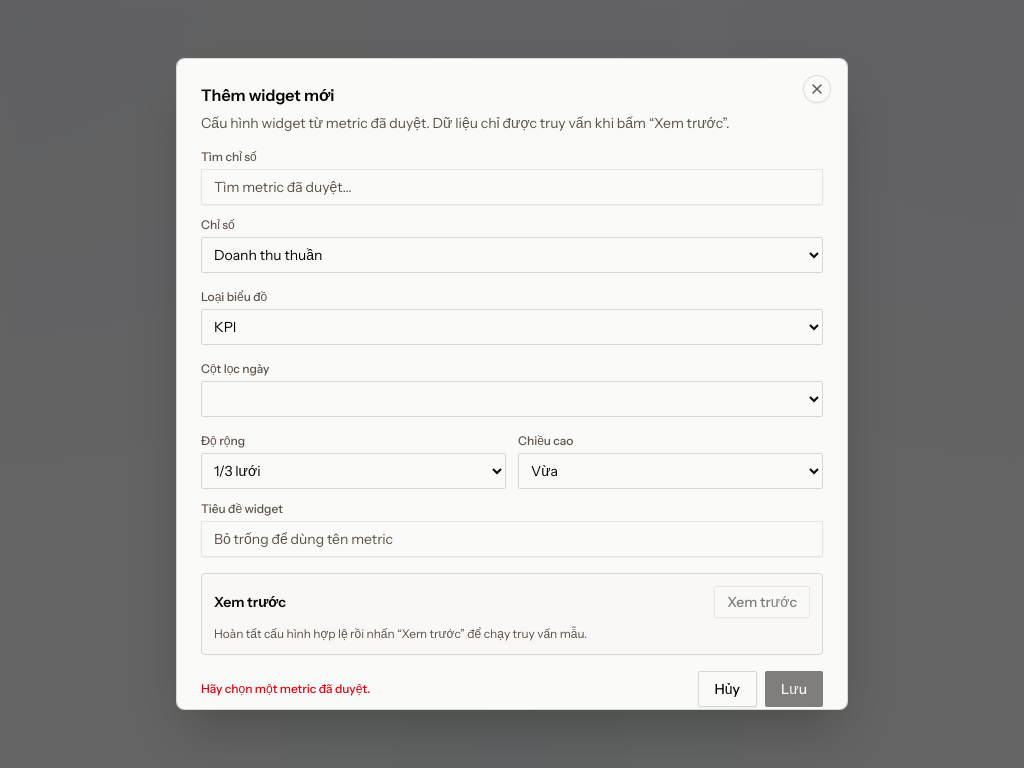
Test case: WidgetConfigModal › adapts dimension options to chart compatibility and resets stale selections
Step 1. Select "Doanh thu thuần" in the dropdown labelled "Chỉ số" → (512, 255), box [201, 237, 823, 273]
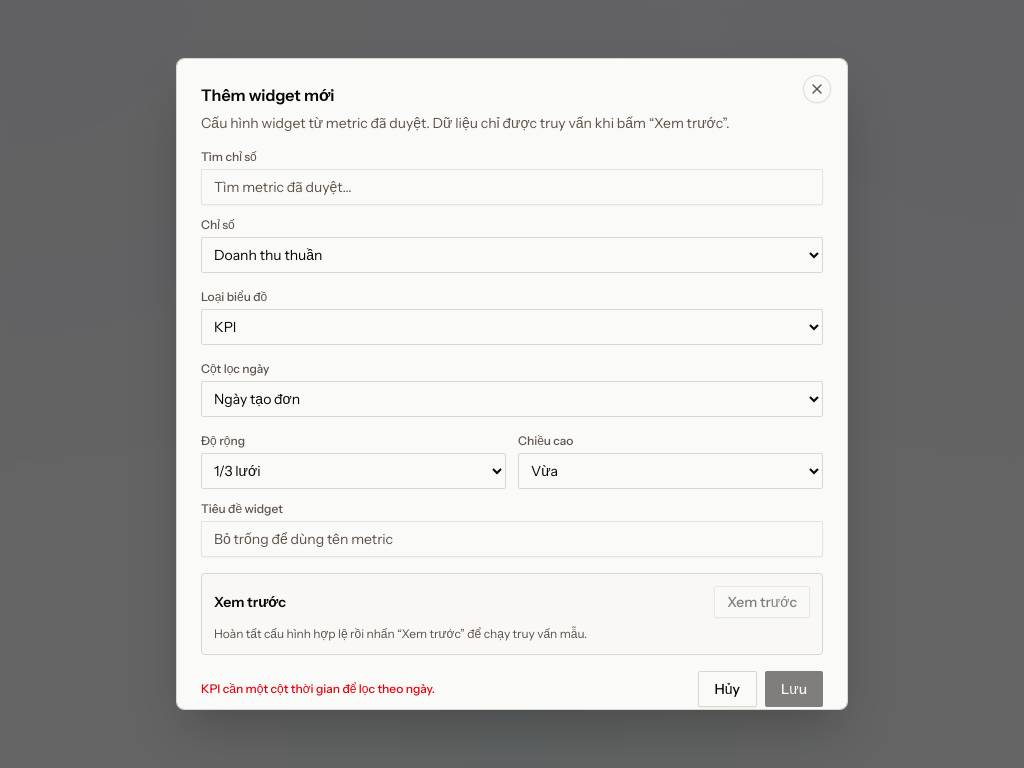
Step 2. Select "Biểu đồ cột" in the dropdown labelled "Loại biểu đồ" → (512, 327), box [201, 309, 823, 345]
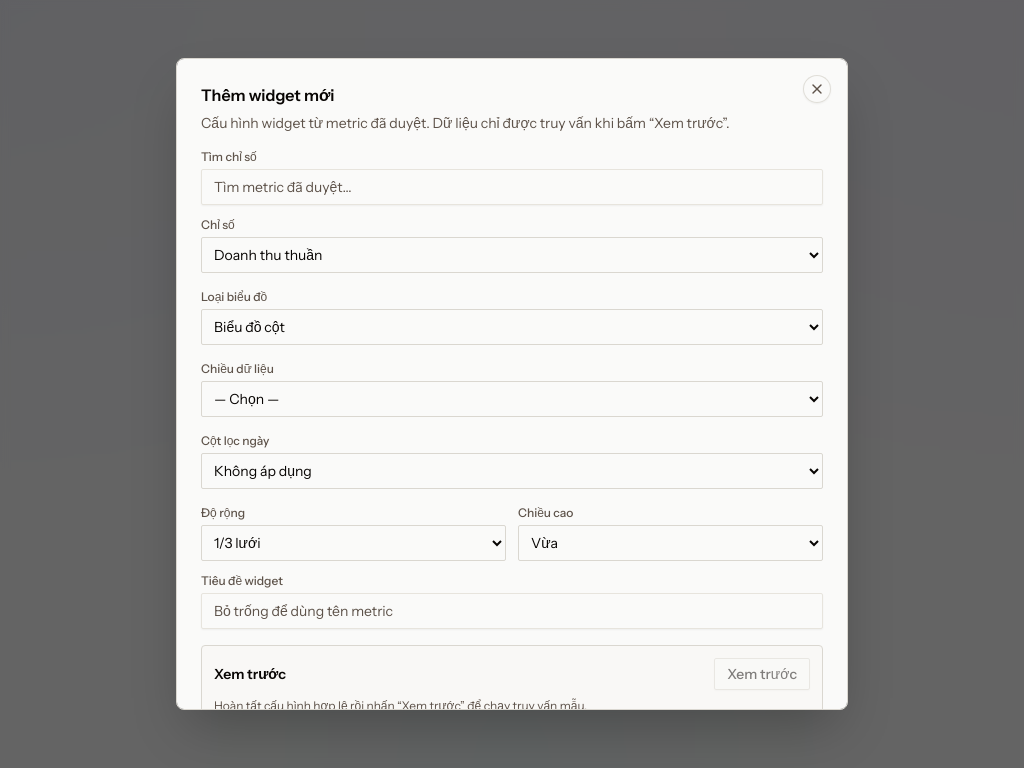
Expected: the option does not show "Ngày tạo đơn"
Step 3. Select "Tên khách hàng" in the dropdown labelled "Chiều dữ liệu" → (512, 399), box [201, 381, 823, 417]
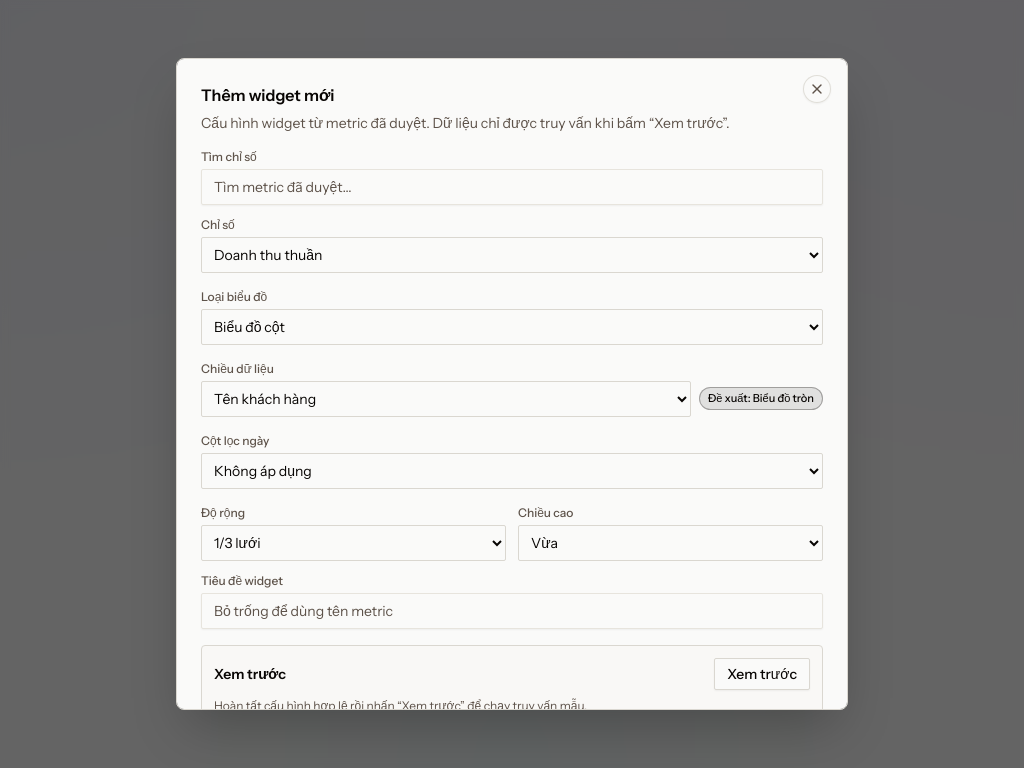
Step 4. Select "Biểu đồ đường" in the dropdown labelled "Loại biểu đồ" → (512, 327), box [201, 309, 823, 345]
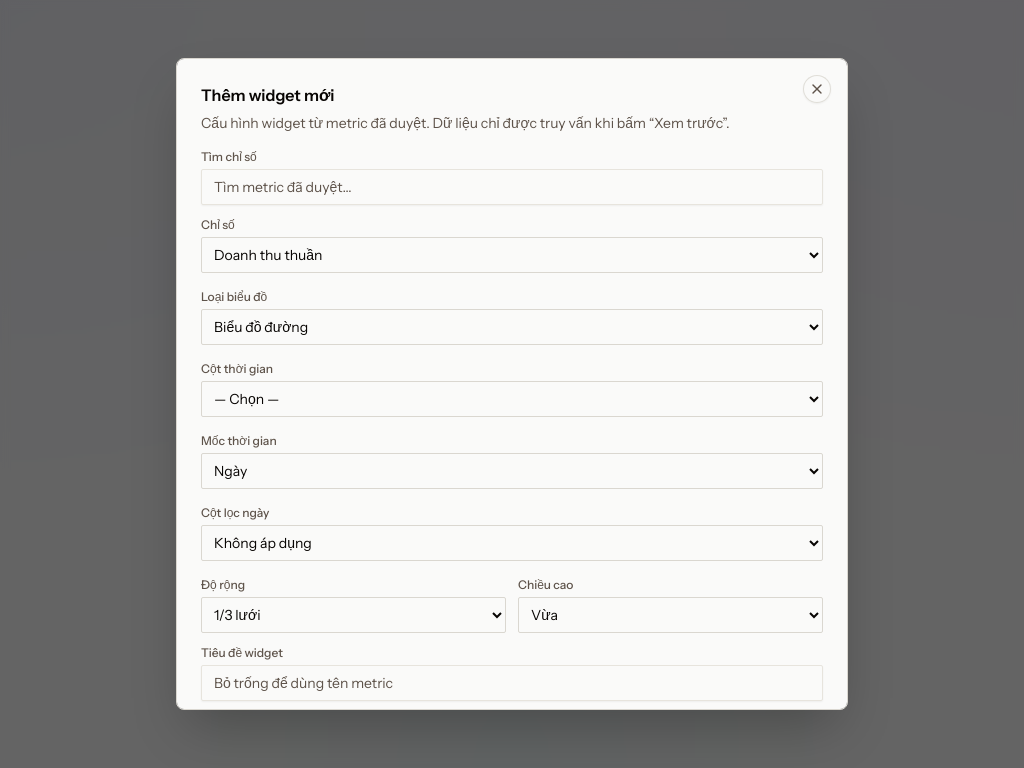
Step 5. Select "KPI" in the dropdown labelled "Loại biểu đồ" → (512, 327), box [201, 309, 823, 345]
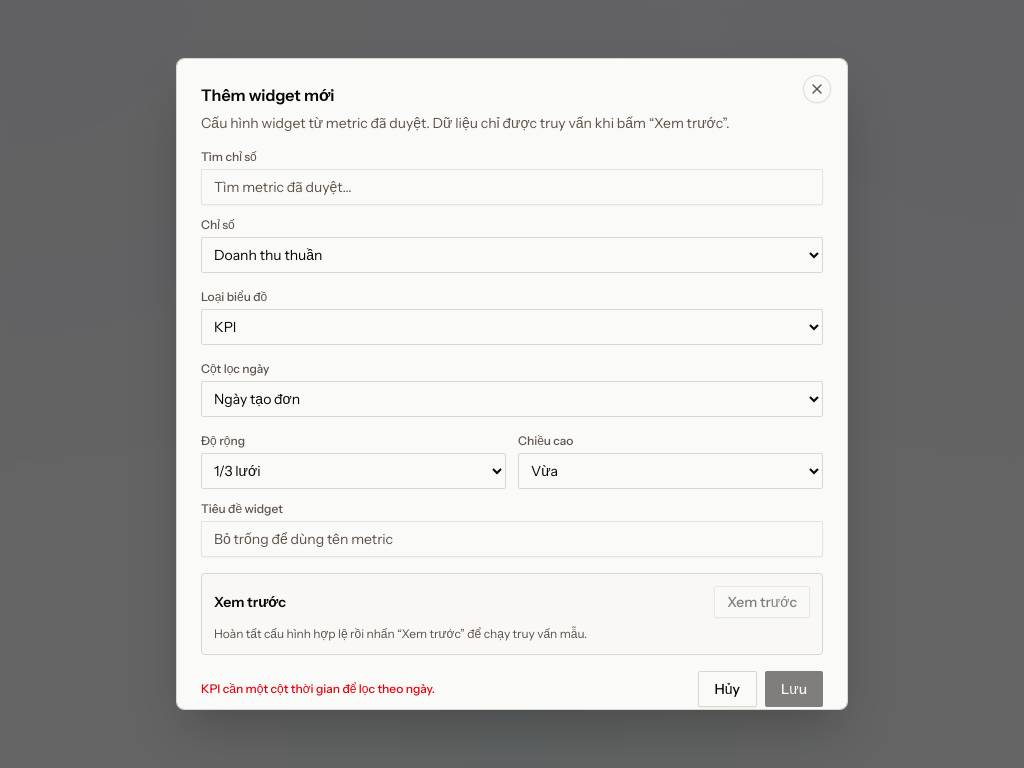
Expected: the label labelled "Chiều dữ liệu" is not shown
Now the label labelled "Mốc thời gian" is gone
Step 6. Select "Biểu đồ cột" in the dropdown labelled "Loại biểu đồ" → (512, 327), box [201, 309, 823, 345]
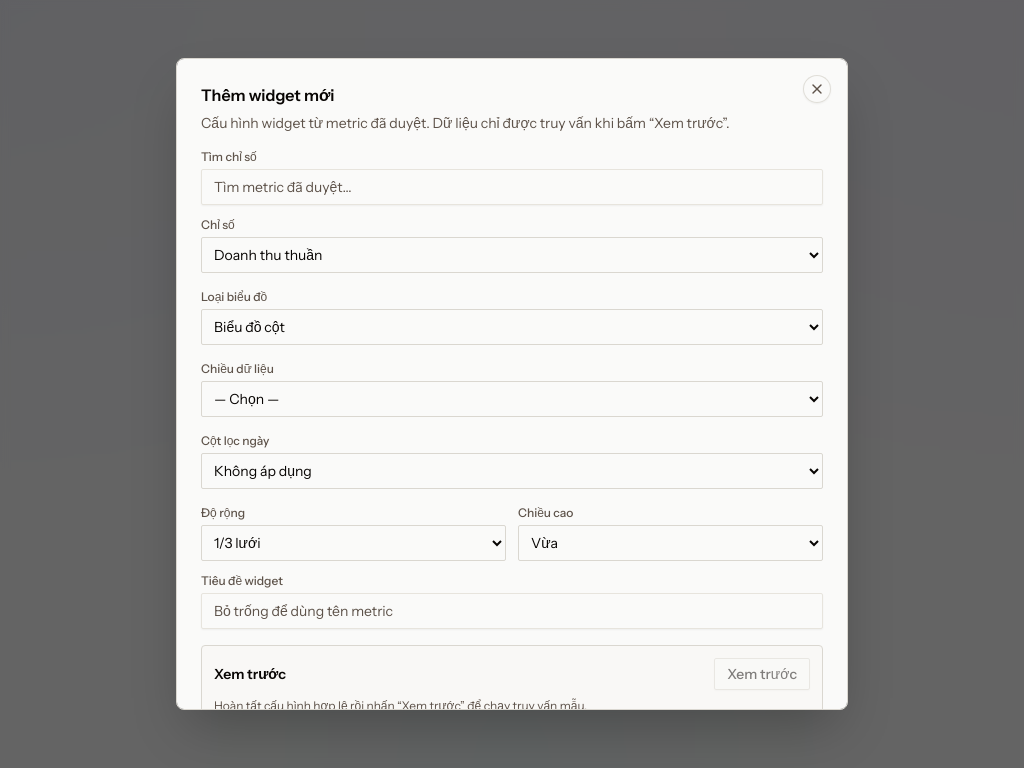
Now the dropdown labelled "Chiều dữ liệu" shows "— Chọn —", box [201, 381, 823, 417]
